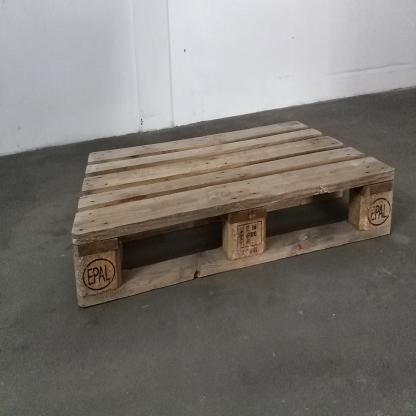BoxFace: (68, 113, 399, 315)
